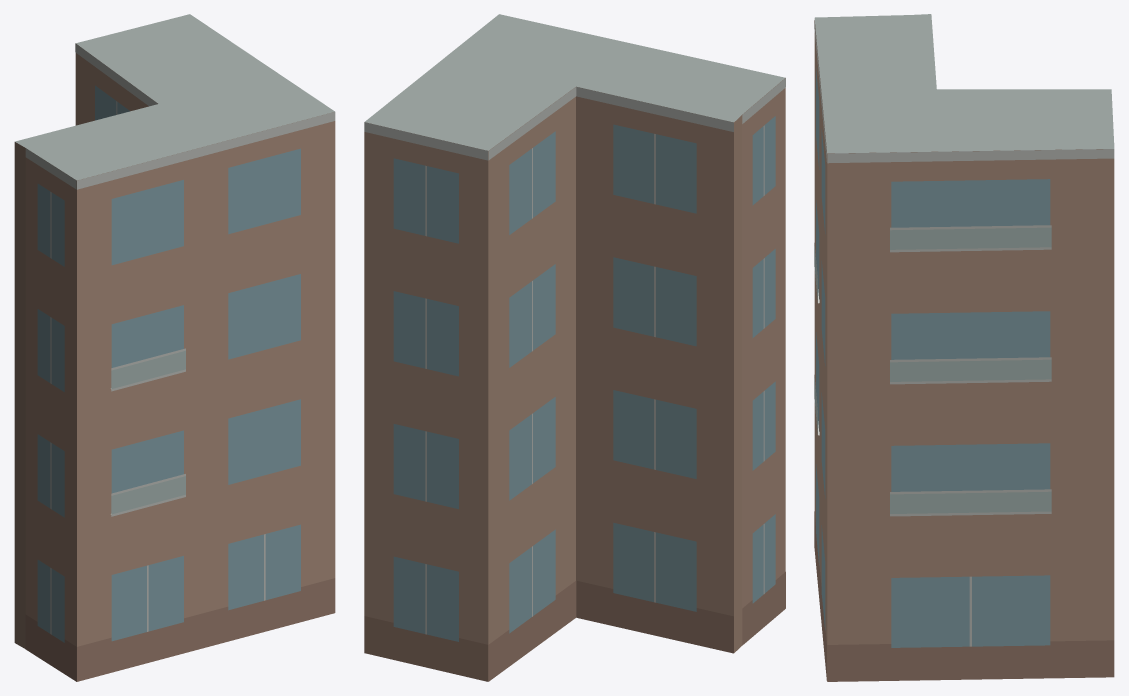
Rendered from survey-upis-32469552.glb.
3 views of the same model, side by side, from view 1: azimuth 30°, elevation 25°; view 2: azimuth 150°, elevation 25°; view 3: azimuth 270°, elevation 25° (orthographic). The views are drawn at different scales.
Parts seen in each view (by area): view 1: survey-upis-32469552.tmp; view 2: survey-upis-32469552.tmp; view 3: survey-upis-32469552.tmp.
Part boxes in pixels (x1=…): survey-upis-32469552.tmp: x1=14, y1=14, x2=335, y2=681; survey-upis-32469552.tmp: x1=364, y1=14, x2=785, y2=681; survey-upis-32469552.tmp: x1=814, y1=14, x2=1114, y2=681.
Size of the model in its own units: 7.51 by 13.25 by 6.83.
